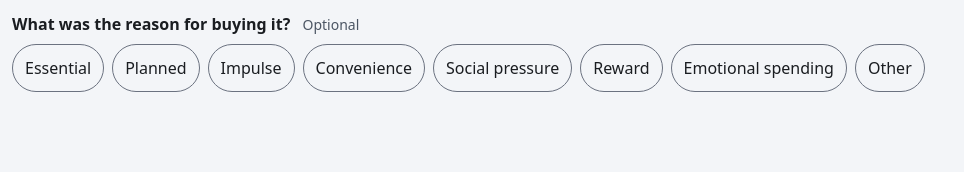
Scenario: ReasonChips › selects, ticks and clears a reason
The width and height of the screenshot is (964, 172).
Later steps or results of the test are not shown.
Click the button "Impulse" at [251, 68], box [208,44,294,92]
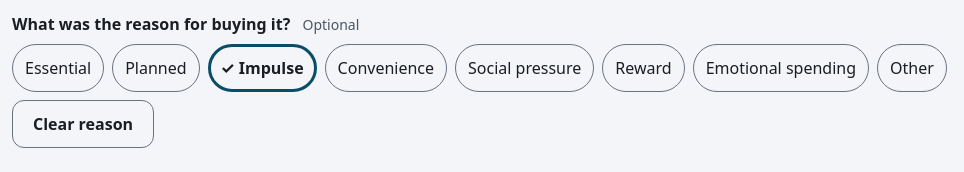
Check: the button "✓ Impulse" is shown, box [208,44,317,92]
